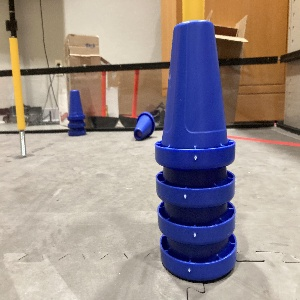Blue_4: (156, 20, 234, 281)
